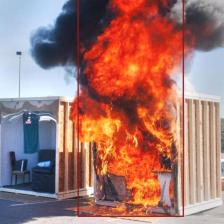fire: (77, 0, 184, 217)
